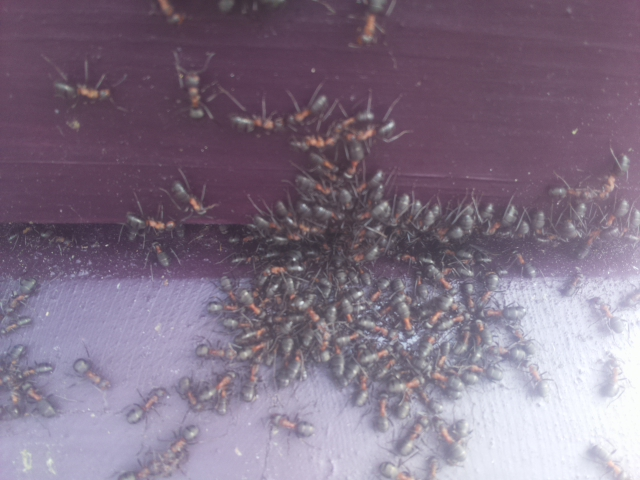ant: (133, 415, 202, 480), (569, 201, 628, 264), (203, 268, 265, 327), (119, 374, 177, 433), (335, 104, 406, 151), (170, 58, 215, 127), (13, 372, 67, 425), (165, 168, 215, 225), (117, 202, 184, 244), (347, 0, 398, 50), (283, 286, 333, 335), (265, 196, 316, 244), (270, 331, 308, 395), (196, 366, 243, 417), (260, 407, 325, 443), (385, 371, 432, 420), (286, 86, 335, 130), (393, 411, 434, 461), (578, 440, 629, 480), (326, 335, 363, 389), (595, 152, 636, 200), (1, 272, 43, 318), (437, 415, 474, 466), (224, 108, 291, 135), (49, 78, 115, 104), (71, 352, 113, 392), (170, 373, 208, 416), (414, 256, 458, 293), (354, 166, 391, 210), (590, 295, 627, 336), (239, 356, 265, 407), (391, 291, 417, 341), (484, 202, 518, 237), (186, 342, 239, 364), (557, 265, 588, 301), (461, 362, 509, 385), (153, 0, 188, 28), (352, 316, 391, 341), (478, 267, 501, 309), (528, 357, 550, 400), (351, 368, 372, 411), (527, 206, 552, 242), (511, 248, 538, 278), (377, 461, 417, 480), (0, 314, 29, 337), (376, 393, 392, 434)
